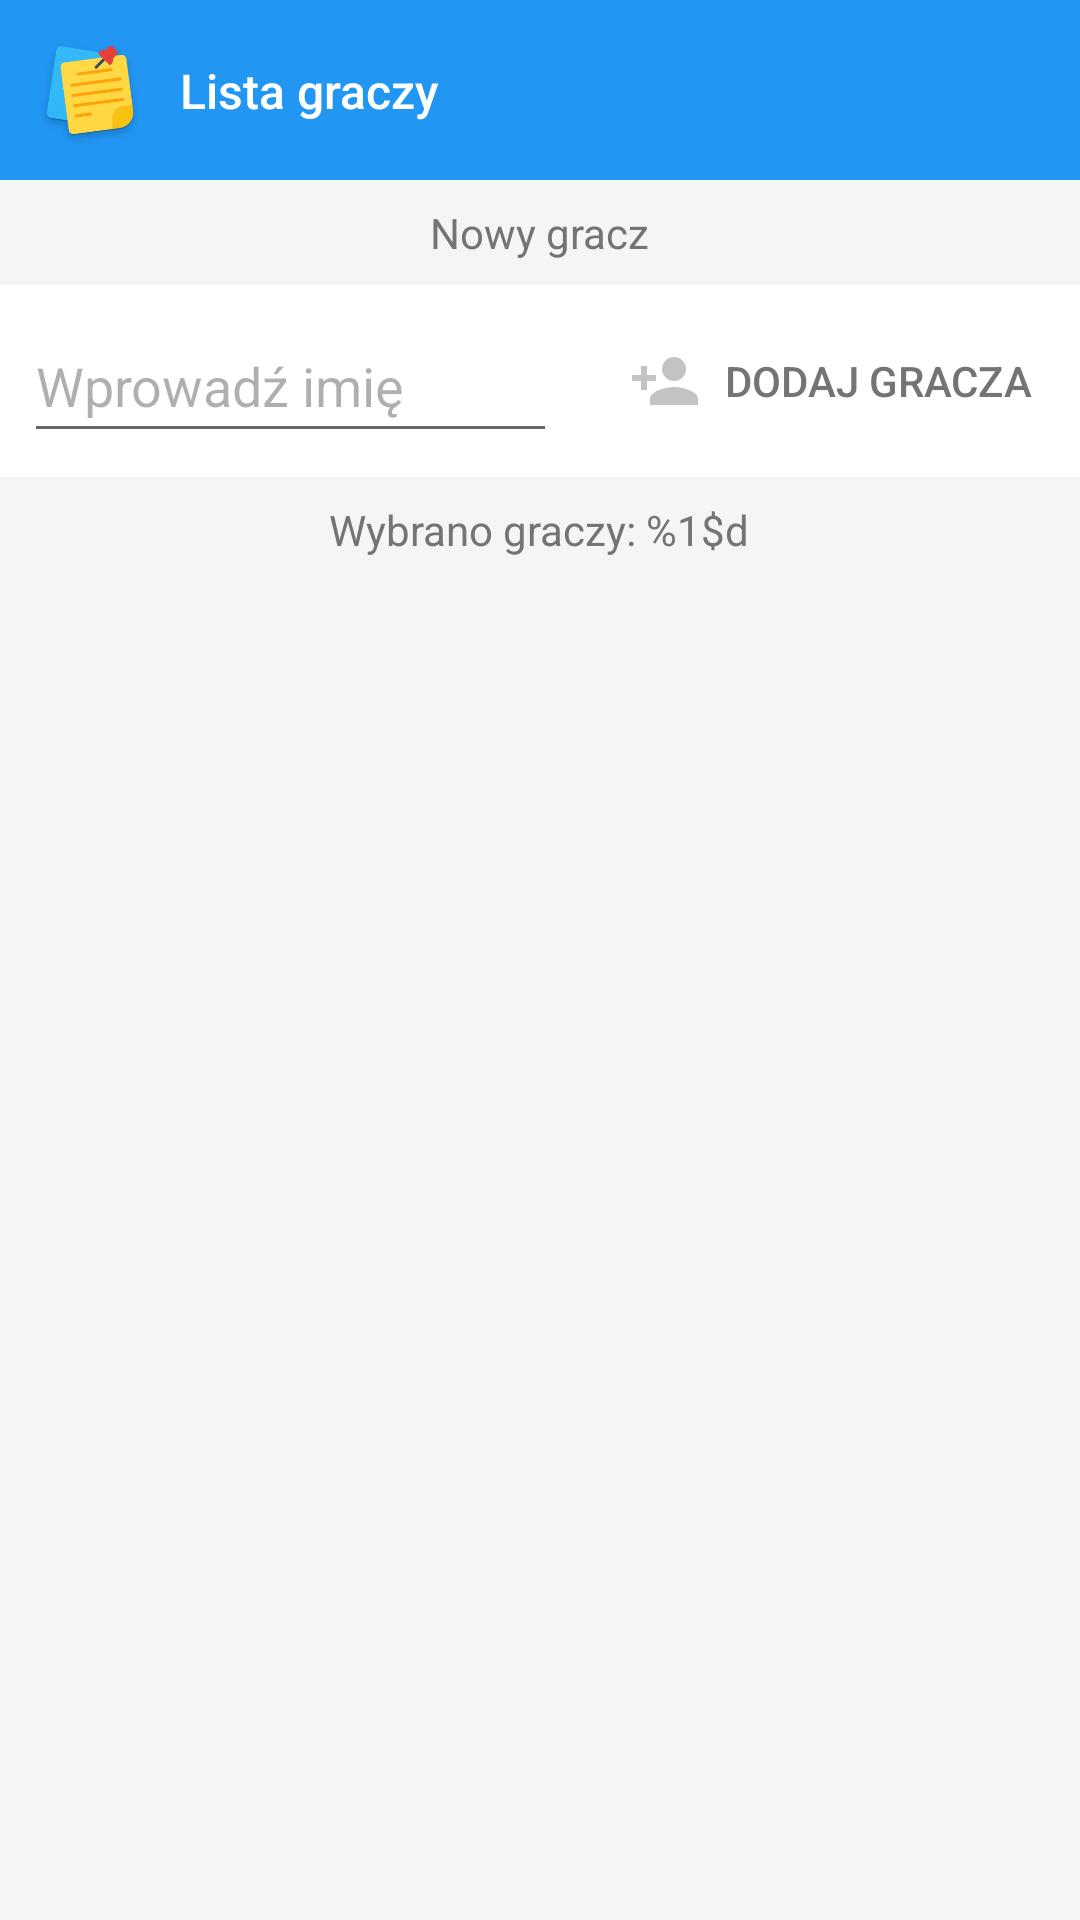

Screen size 1080 x 1920. Icon name, then its box in pixels as (x1, y1, x2, y2):
sticky: (47, 46, 134, 137)
